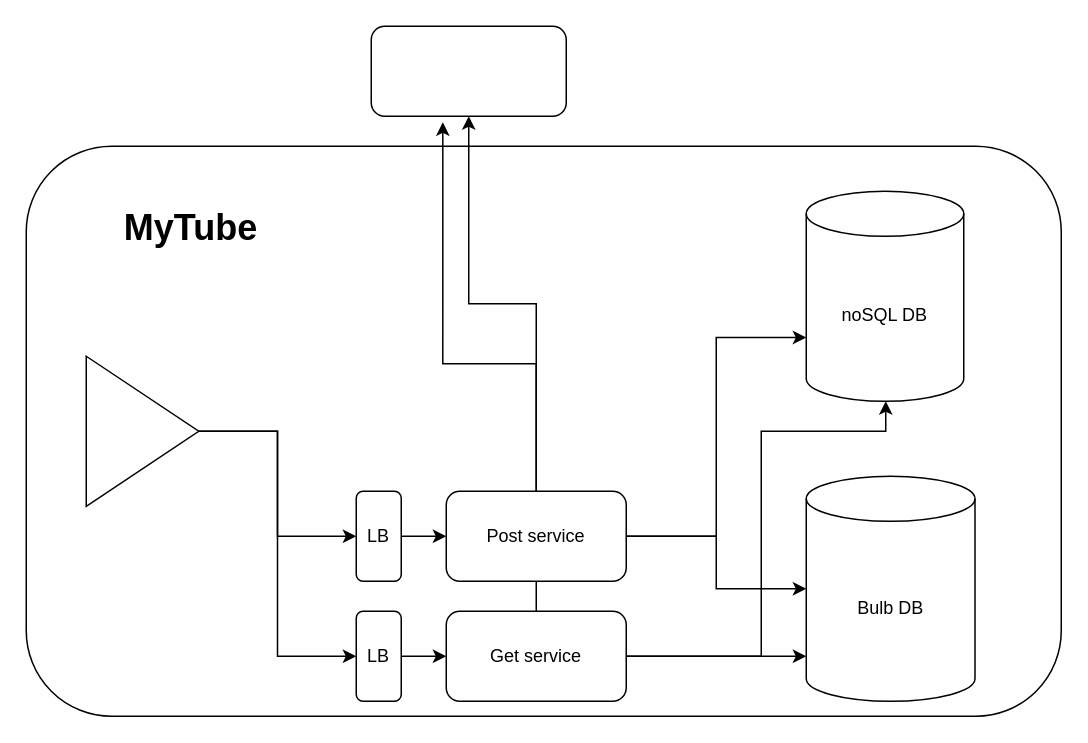
This 1088x743 diagram has some shape labels left out. Each missing label, with the box of its shape:
Gateway: (85, 355, 199, 506)
Oauth2 service: (370, 25, 566, 116)
